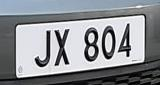0: (100, 19, 118, 64)
4: (118, 17, 133, 63)
8: (82, 23, 101, 66)
J: (31, 26, 53, 70)
X: (52, 25, 73, 70)
